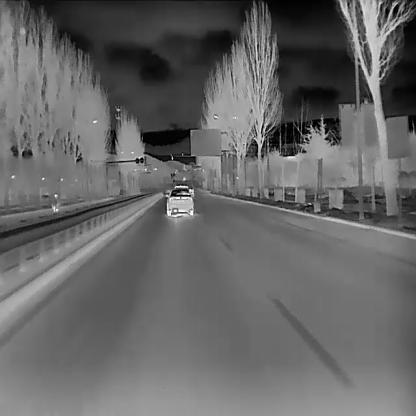car: (164, 187, 194, 216), (51, 192, 59, 213)
